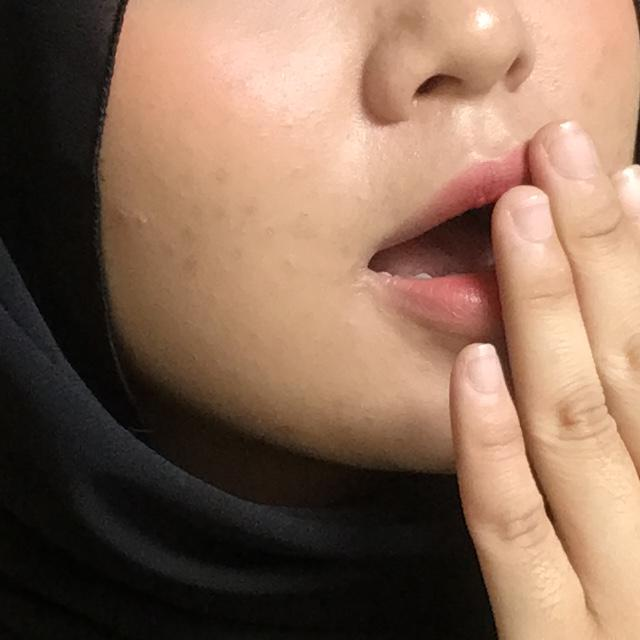ngantuk: (400, 136, 640, 640)
